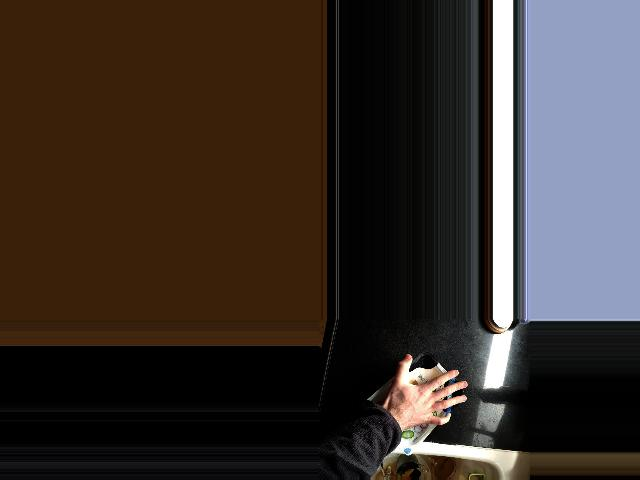cheese: (359, 351, 466, 459)
